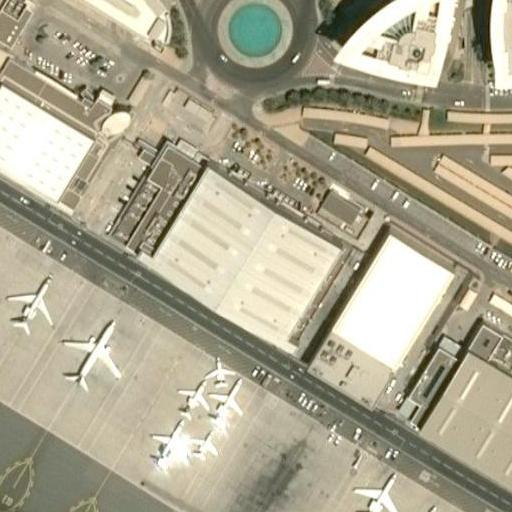Aircraft: (59, 317, 122, 393), (3, 277, 55, 331), (149, 418, 186, 467), (354, 473, 400, 512), (210, 380, 246, 421), (173, 380, 207, 419), (190, 430, 220, 464), (205, 356, 234, 388), (404, 505, 438, 512)
